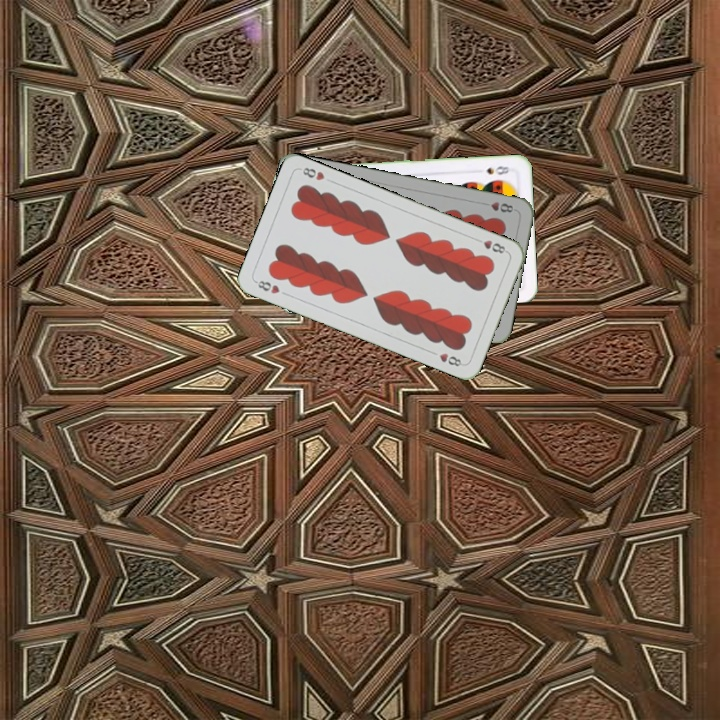H8: (471, 234, 510, 256), (251, 276, 282, 297), (478, 198, 516, 215)
S8: (483, 162, 516, 177)
